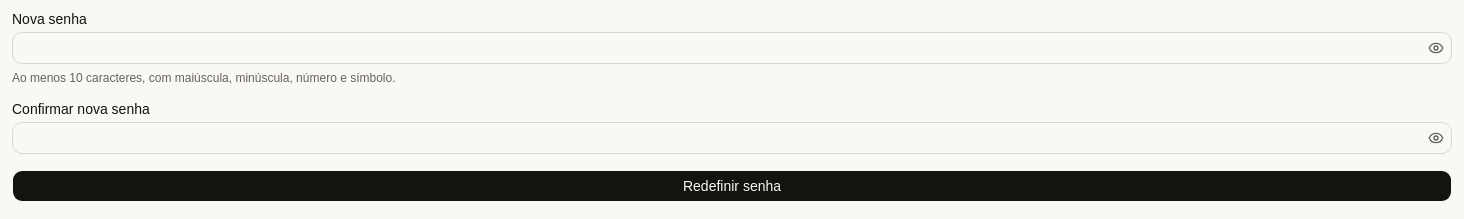
Test: ResetPasswordForm › offers a link to request a new token when the token is invalid or expired
Type "Str0ng!Passw0rd" into the password field labelled "Nova senha".
click(718, 48); type("Str0ng!Passw0rd")  # box [13,32,1424,64]
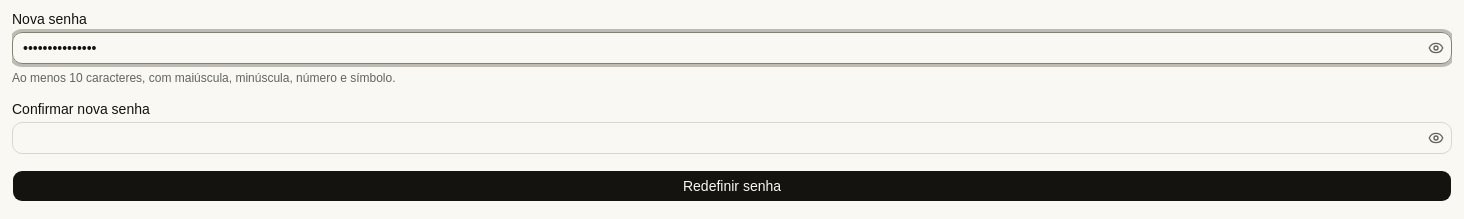
Type "Str0ng!Passw0rd" into the password field labelled "Confirmar nova senha".
click(718, 138); type("Str0ng!Passw0rd")  # box [13,122,1424,154]
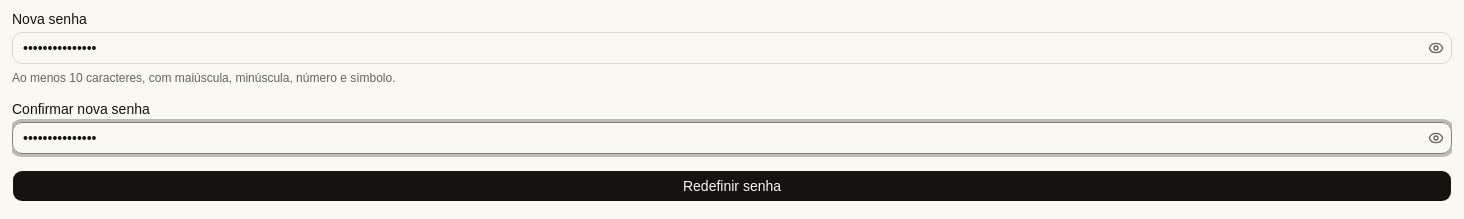
Click the button "Redefinir senha".
click(732, 186)  # box [12,170,1452,202]
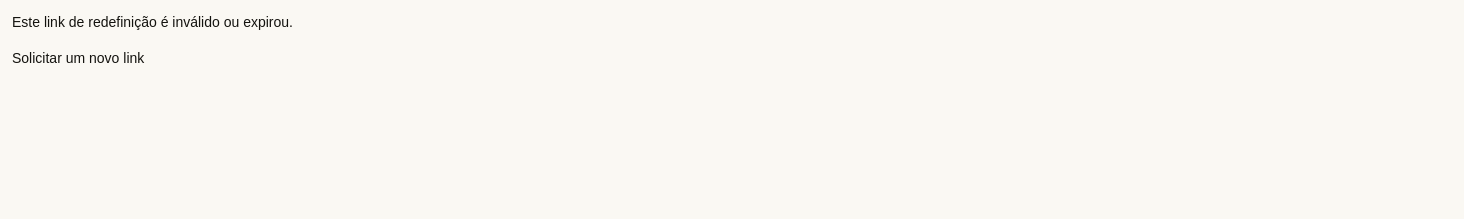
Now the link "Solicitar um novo link" is shown, box [12,50,144,66]
